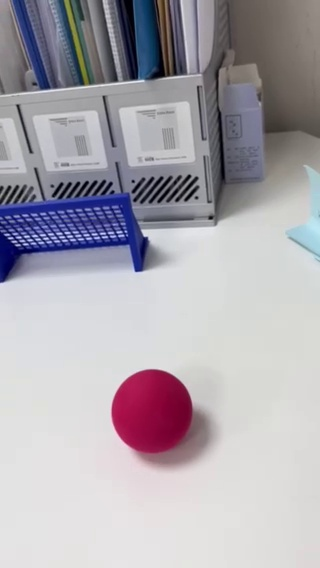goal: (0, 193, 144, 282)
redball: (110, 368, 192, 454)
